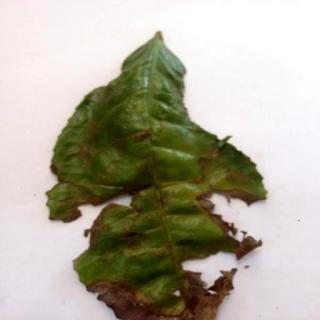Algal Leaf: (49, 33, 270, 320)
